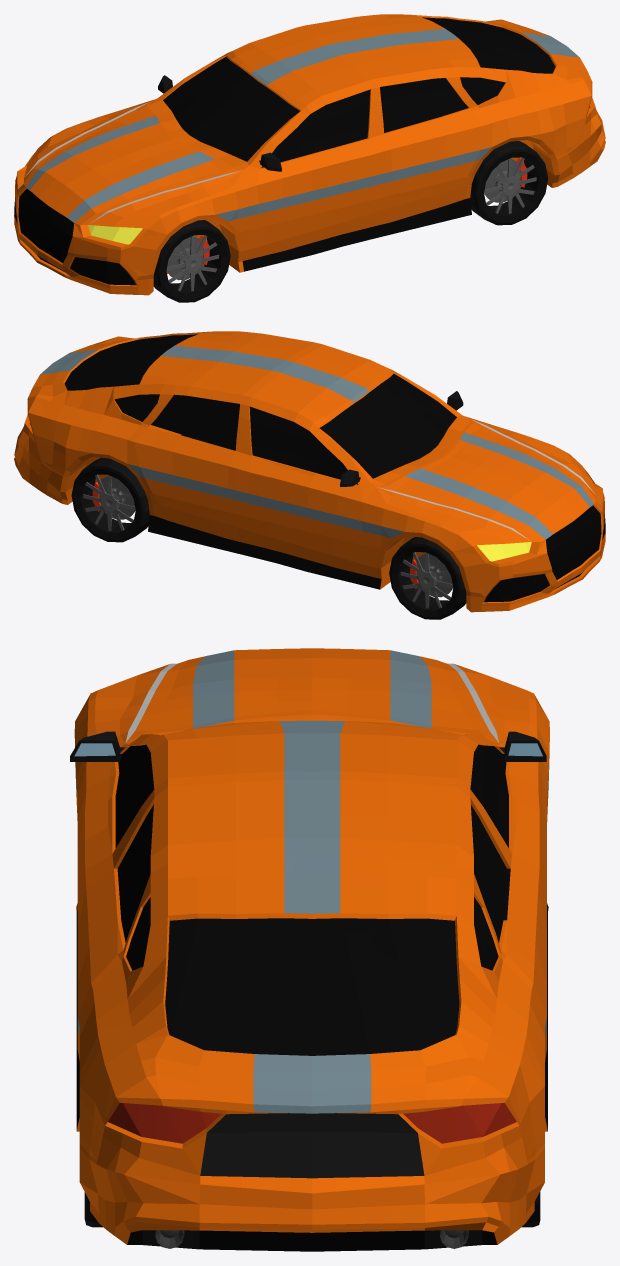
File: arcade-car-09.glb
3 renders of one model, top to bottom at view 1: azimuth 30°, elevation 25°; view 2: azimuth 150°, elevation 25°; view 3: azimuth 270°, elevation 25°, orthographic. The views are drawn at different scales.
Parts seen in each view (by area): view 1: arcade-car-09; view 2: arcade-car-09; view 3: arcade-car-09.
Part boxes in pixels (x1,y1,x2,y2): arcade-car-09: (14, 14, 605, 302); arcade-car-09: (14, 331, 605, 619); arcade-car-09: (70, 648, 549, 1251).
Bounding box in the file's own units: 4.16 × 1.2 × 1.6.
Materials: 1 (1 with a texture image).
